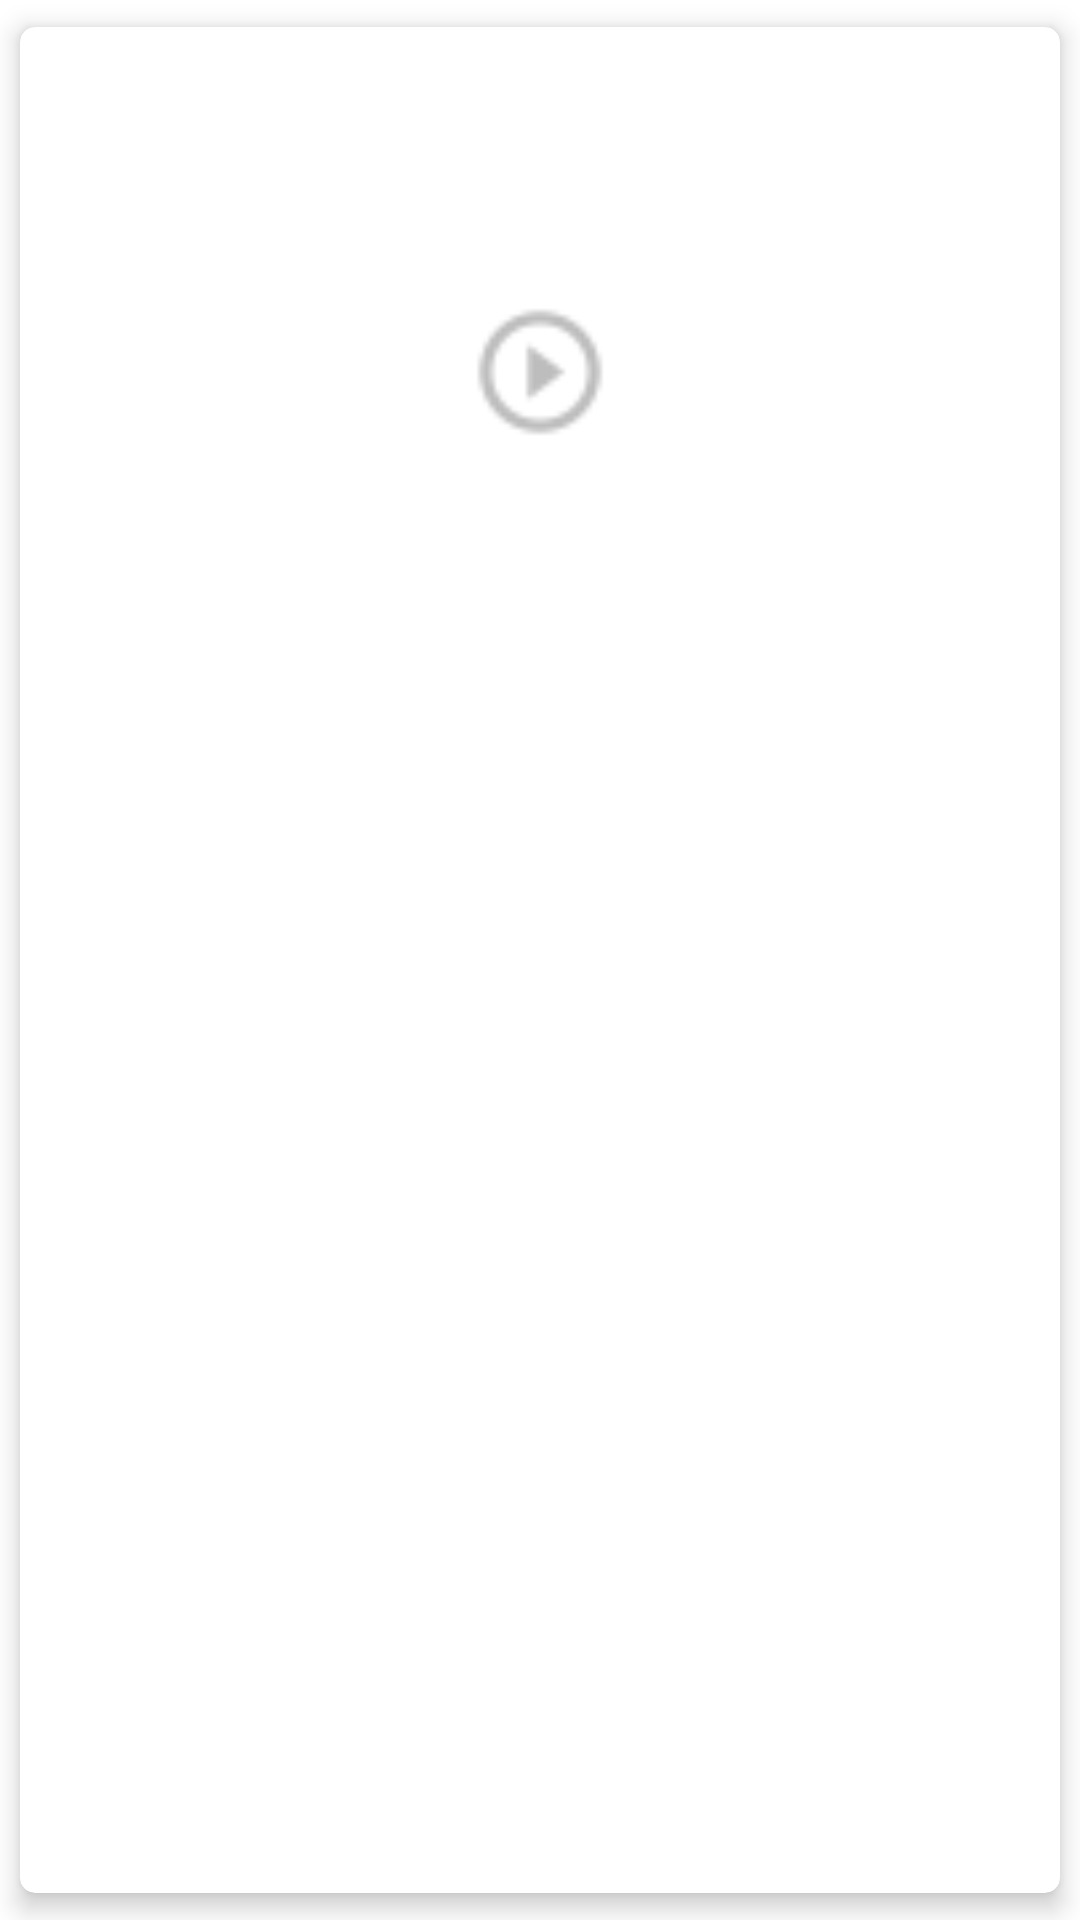

Icons on this 1080 x 1920 Android screen, each with the point to tap as (x,y):
play circle: (540,372)
